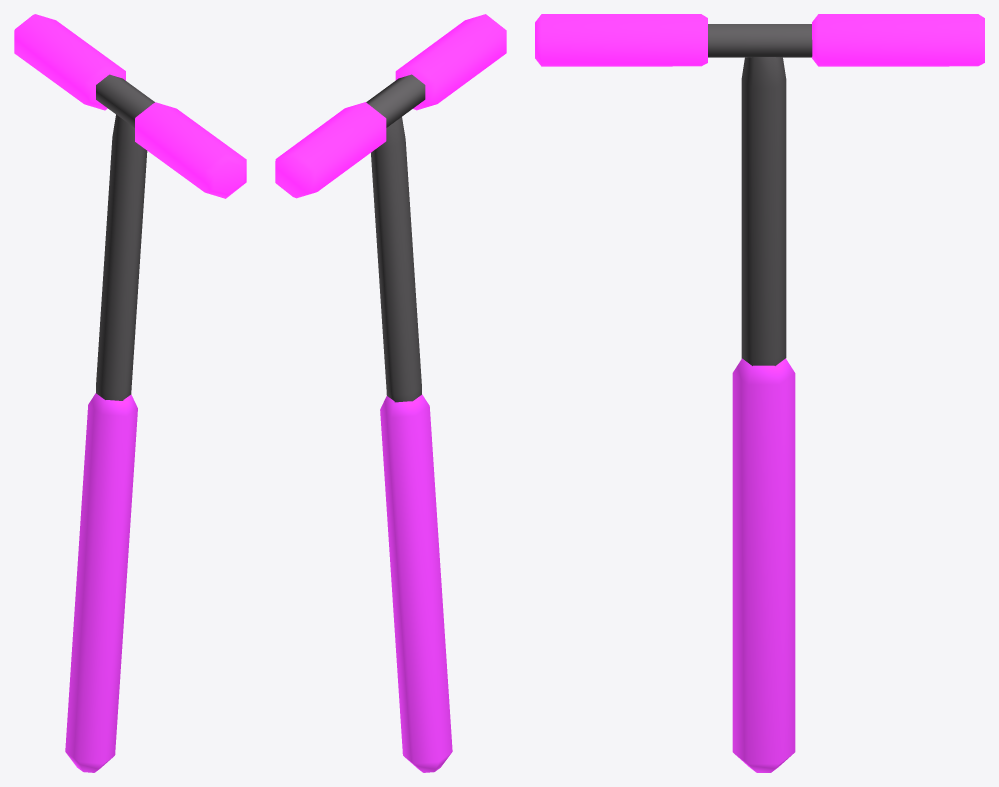
Rendered from ersatzteil_lenker.fbx.
3 renders of one model, left to right at view 1: azimuth 30°, elevation 25°; view 2: azimuth 150°, elevation 25°; view 3: azimuth 270°, elevation 25°, orthographic. The views are drawn at different scales.
Visible parts, largest first — view 1: Hauptstange, Hauptstange.003, Hauptstange.001, Hauptstange.002; view 2: Hauptstange, Hauptstange.003, Hauptstange.001, Hauptstange.002; view 3: Hauptstange, Hauptstange.003, Hauptstange.001, Hauptstange.002.
Part boxes in pixels (x1,y1,x2,y2): Hauptstange: (65, 393, 137, 772); Hauptstange.003: (14, 14, 246, 198); Hauptstange.001: (96, 114, 147, 400); Hauptstange.002: (96, 74, 154, 127); Hauptstange: (380, 394, 452, 772); Hauptstange.003: (275, 14, 506, 198); Hauptstange.001: (371, 117, 421, 402); Hauptstange.002: (366, 74, 425, 127); Hauptstange: (732, 358, 795, 772); Hauptstange.003: (535, 14, 984, 66); Hauptstange.001: (741, 57, 786, 365); Hauptstange.002: (708, 24, 812, 57).
Size of the model in its own units: 26.12 by 218 by 114.
